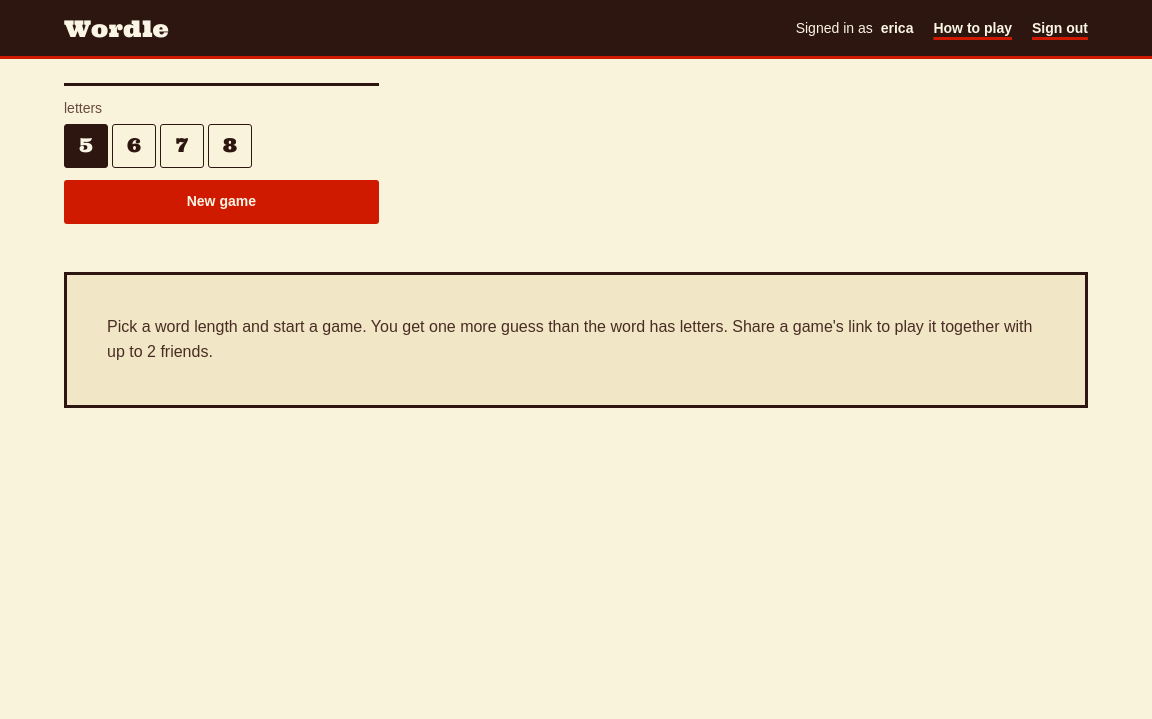
it: App: the game screen › shows the board, players and keyboard after "New game"
expect the text "Signed in as" is shown: met, box [796,18,873,40]
Click the button "New game".
click(221, 202)  # box [64,180,379,224]
(page scrolled)
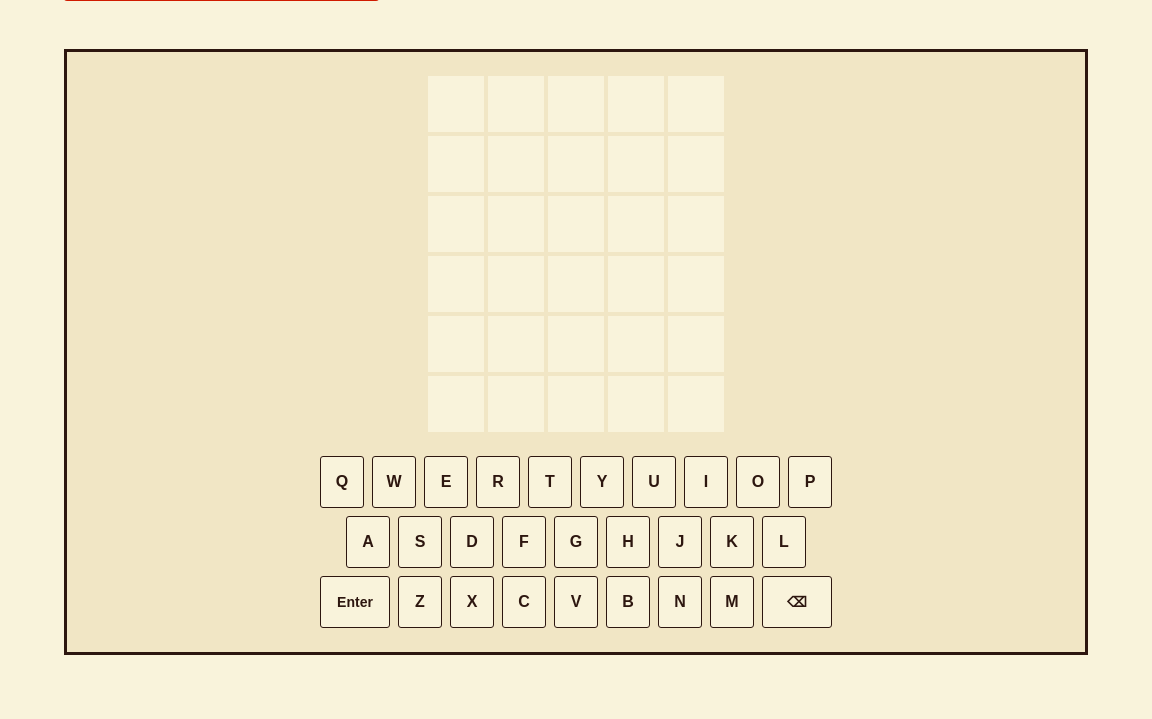
expect the button "Enter" is enabled: met, box [320,576,390,628]
expect the text "Pick a word length" is gone: met
